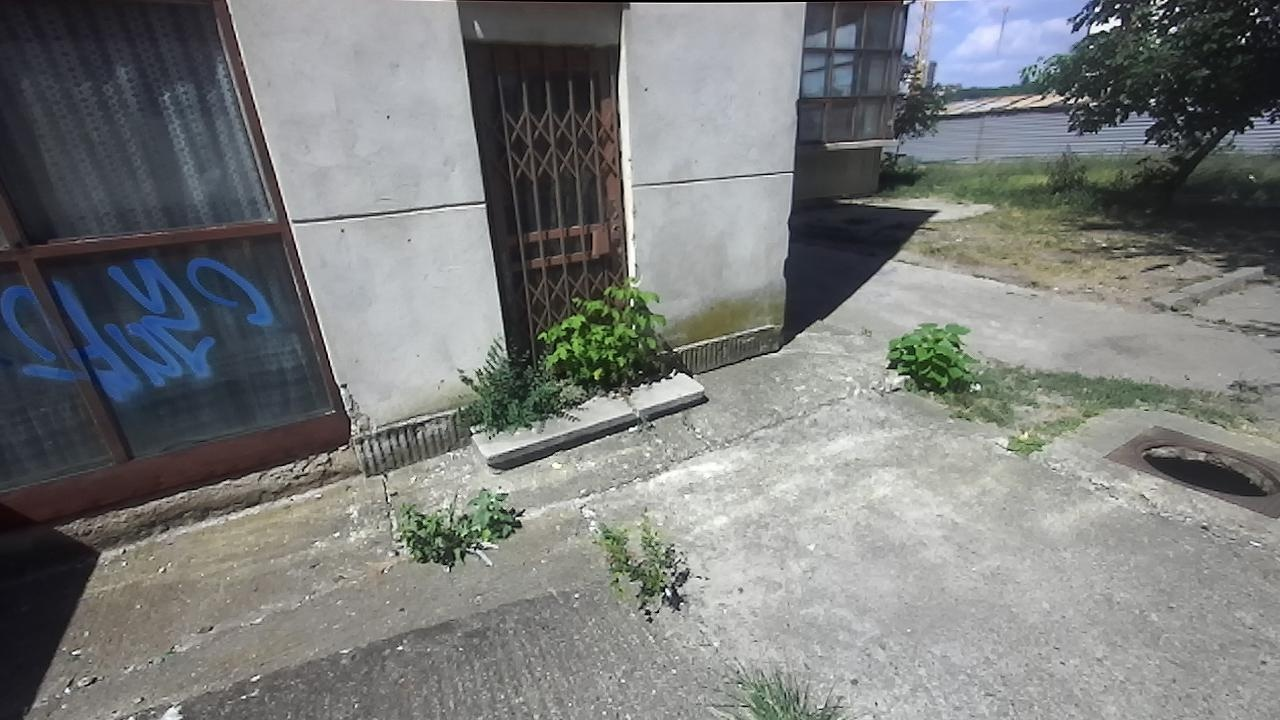drain: (1127, 435, 1279, 503)
